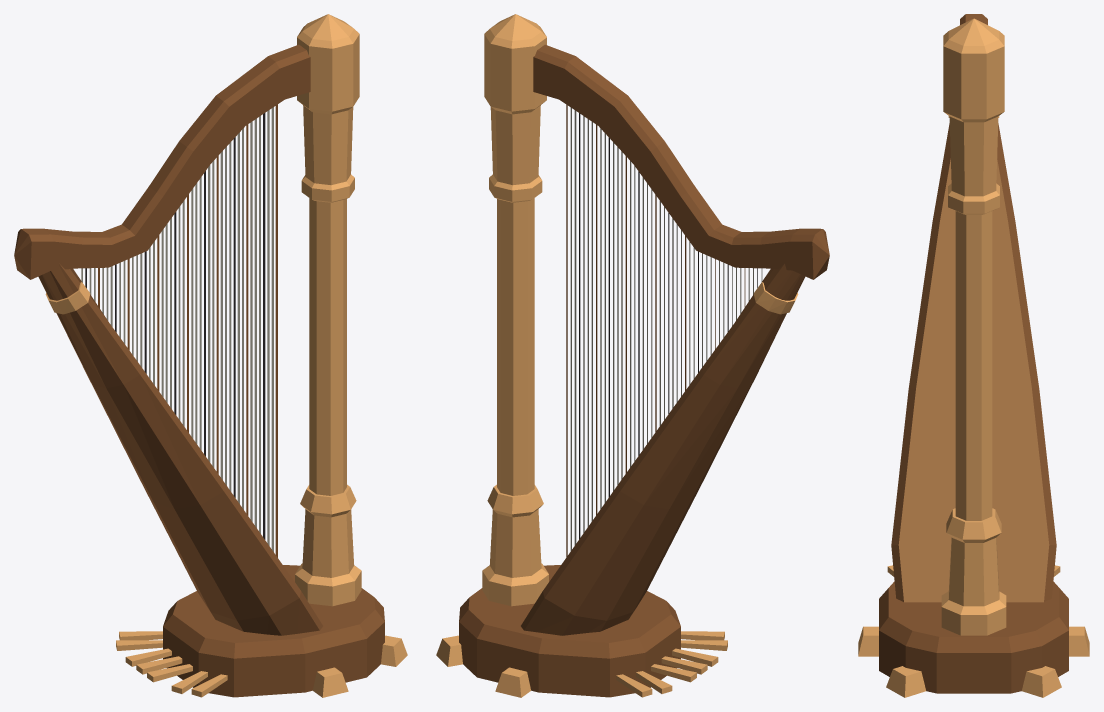
The model's file is concert-pedal-harp-eb1a21.glb.
The picture shows the model from 3 angles, left to right: view 1: azimuth 30°, elevation 25°; view 2: azimuth 150°, elevation 25°; view 3: azimuth 270°, elevation 25°; orthographic projection. The views are drawn at different scales.
Visible parts, largest first — view 1: harp-metal, harp-body; view 2: harp-body, harp-metal; view 3: harp-body, harp-metal.
Part boxes in pixels (x1,y1,x2,y2): harp-metal: [45, 14, 407, 697]; harp-body: [14, 44, 384, 697]; harp-body: [459, 44, 829, 697]; harp-metal: [436, 14, 798, 697]; harp-body: [879, 14, 1068, 693]; harp-metal: [858, 18, 1089, 697].
Bounding box in the file's own units: 1.05 × 1.75 × 0.56.
